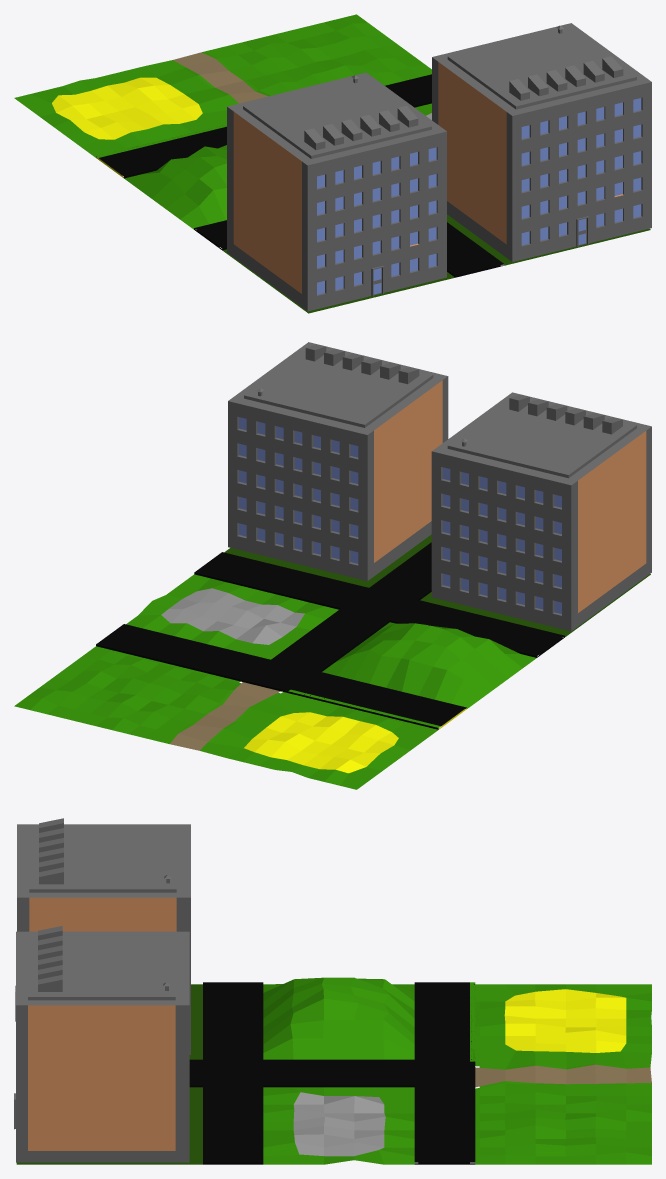
Rendered from TerrainCurbFixMaybe.fbx.
The picture shows the model from 3 angles, top to bottom: view 1: azimuth 30°, elevation 25°; view 2: azimuth 150°, elevation 25°; view 3: azimuth 270°, elevation 25°; orthographic projection. The views are drawn at different scales.
Visible parts, largest first — view 1: Cube, Cube.001, Plane; view 2: Plane, Cube, Cube.001; view 3: Plane, Cube.001, Cube.
Part boxes in pixels (<box>): Cube: <box>227,72,446,311</box>; Cube.001: <box>432,23,651,261</box>; Plane: <box>14,14,650,313</box>; Plane: <box>14,534,650,789</box>; Cube: <box>431,392,651,631</box>; Cube.001: <box>228,342,448,580</box>; Plane: <box>16,977,651,1164</box>; Cube.001: <box>14,926,189,1162</box>; Cube: <box>15,818,190,1054</box>.
Size of the model in its own units: 201 by 299 by 90.73.
